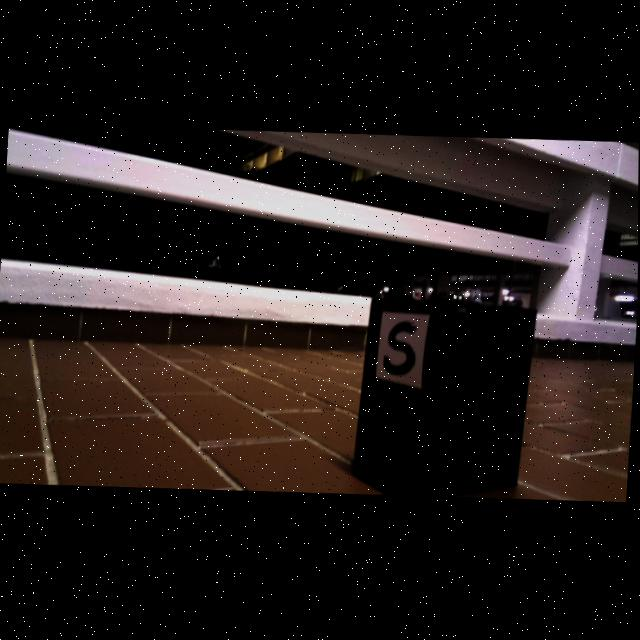S: (385, 324, 416, 377)
